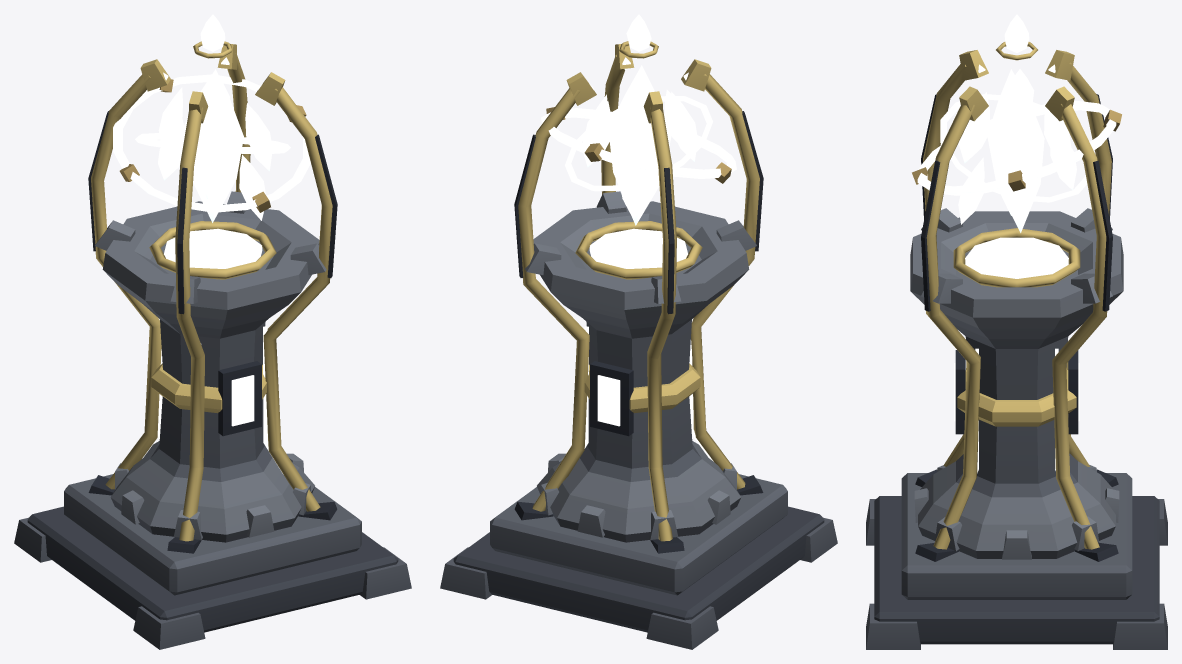
File: echo-shrine.glb
3 views of the same model, side by side, from view 1: azimuth 30°, elevation 25°; view 2: azimuth 150°, elevation 25°; view 3: azimuth 270°, elevation 25° (orthographic). The views are drawn at different scales.
Visible parts, largest first — view 1: Body, Signal; view 2: Body, Signal; view 3: Body, Signal.
Part boxes in pixels (x1,y1,x2,y2): Body: [14, 41, 411, 649]; Signal: [113, 14, 310, 474]; Body: [440, 41, 837, 649]; Signal: [541, 14, 736, 461]; Body: [866, 42, 1167, 649]; Signal: [917, 14, 1116, 473].
Bounding box in the file's own units: 1.1 × 2.3 × 1.1.
